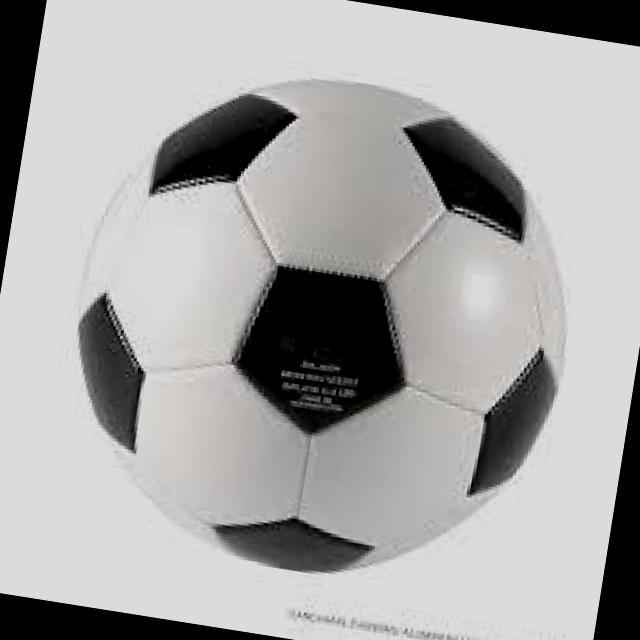Soccer Ball: (31, 35, 602, 610)
